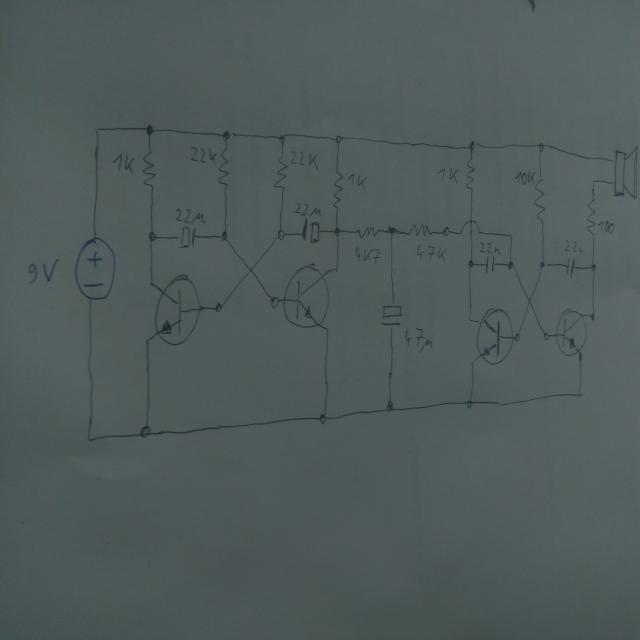capacitor: (302, 216, 320, 245), (380, 304, 402, 327), (180, 227, 198, 250), (484, 254, 495, 274), (565, 257, 576, 277)
crossover: (458, 219, 482, 237), (244, 260, 258, 278), (524, 292, 536, 311)
junction: (139, 425, 151, 440), (83, 431, 95, 445), (220, 128, 232, 141), (144, 124, 155, 138), (147, 229, 157, 243), (276, 228, 286, 242), (270, 296, 280, 310), (214, 300, 223, 315), (538, 259, 548, 272), (512, 330, 522, 343), (574, 389, 584, 402), (220, 230, 229, 244), (93, 125, 103, 137), (142, 336, 152, 348), (506, 259, 516, 271), (542, 329, 550, 344), (318, 413, 327, 426), (388, 224, 397, 237), (385, 401, 394, 414), (589, 261, 598, 274), (334, 134, 344, 145), (468, 140, 478, 151), (146, 279, 155, 291), (278, 133, 287, 145), (466, 257, 475, 269), (537, 142, 546, 154), (333, 226, 342, 237), (468, 357, 477, 368), (442, 226, 451, 237), (466, 312, 474, 324), (465, 399, 474, 409), (505, 230, 514, 240), (589, 312, 597, 323), (323, 324, 331, 334), (332, 266, 340, 276), (590, 177, 597, 186)
resistor: (533, 177, 546, 224), (272, 154, 288, 190), (142, 150, 156, 190), (217, 145, 230, 186), (332, 170, 344, 210), (586, 196, 597, 238), (465, 156, 477, 192), (408, 223, 433, 237), (356, 225, 380, 239)
source: (73, 236, 116, 302)
text: (26, 258, 60, 287), (404, 326, 433, 353), (415, 243, 447, 262), (289, 148, 318, 168), (292, 201, 323, 219), (112, 153, 136, 175), (175, 207, 206, 224), (189, 145, 217, 163), (354, 246, 379, 264), (346, 173, 368, 191), (436, 167, 459, 184), (478, 240, 501, 257), (515, 170, 537, 186), (596, 220, 616, 236), (564, 239, 584, 255)
transistor: (154, 273, 204, 347), (281, 262, 330, 330), (475, 307, 515, 367), (554, 307, 588, 358)
